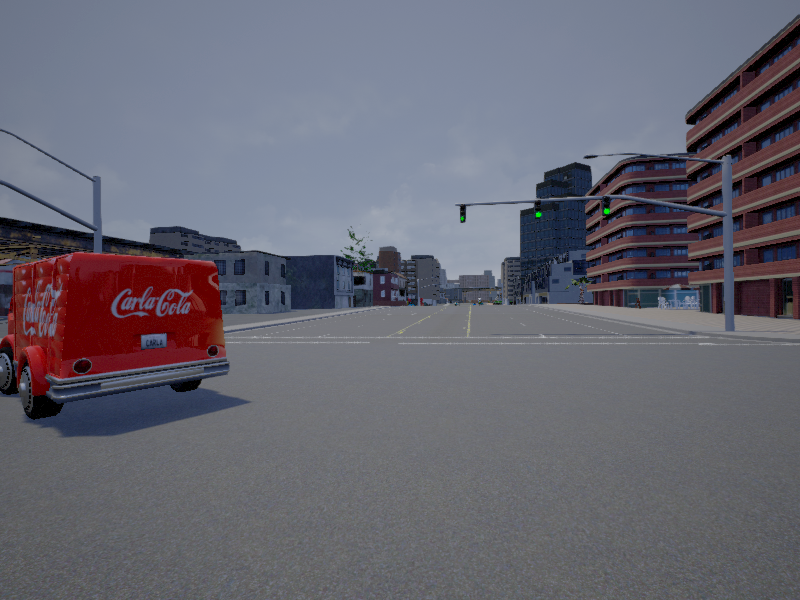Benign: (1, 260, 228, 419)
